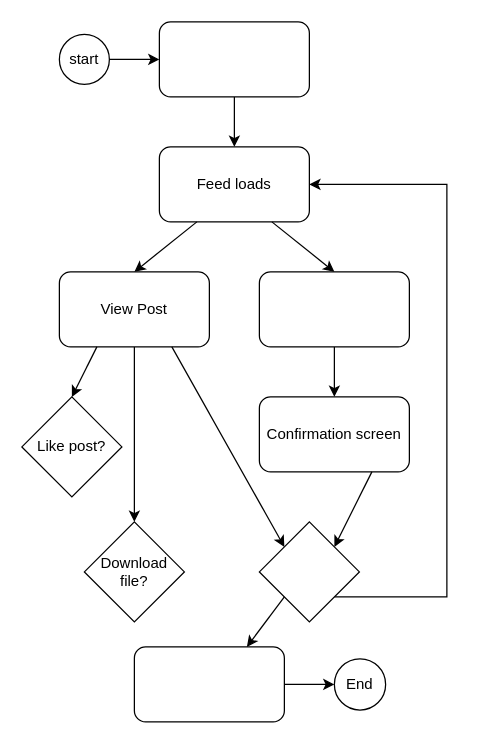
Some shapes in this 479 by 744 pixel diagram are drawn without their labels. Each missing label, with the centre of its shape:
Create new post: point (333, 309)
End session: point (208, 684)
Go to website: point (233, 59)
Return to feed?: point (308, 571)
